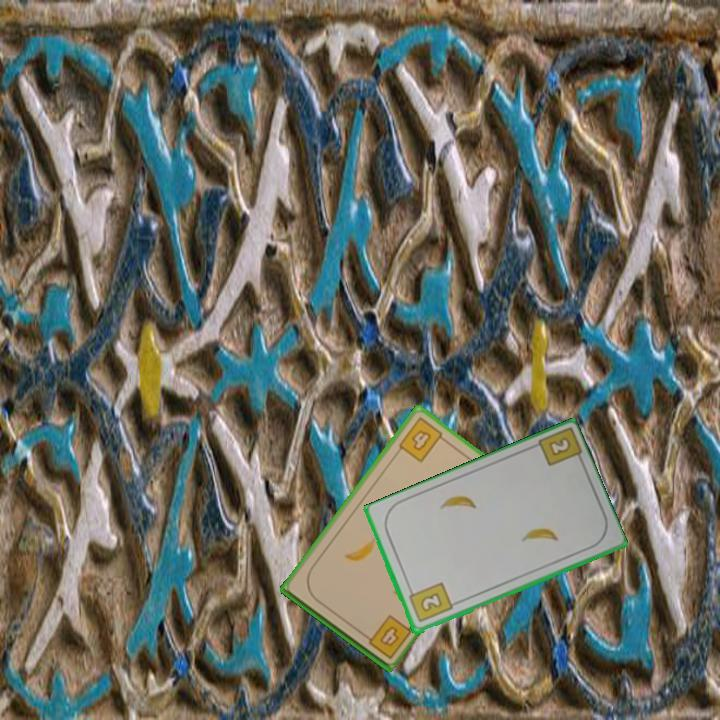2b: (405, 579, 455, 625), (545, 433, 573, 459)
4b: (395, 413, 450, 465), (358, 611, 414, 662)
